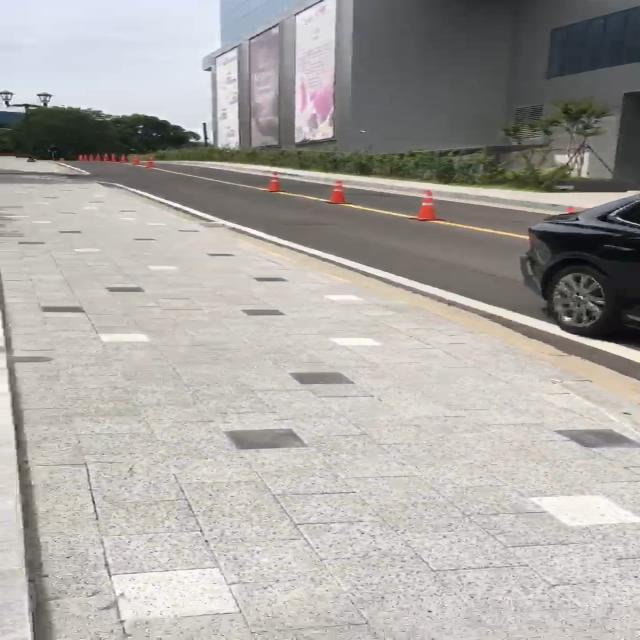obstacle: (499, 182, 640, 360), (71, 151, 164, 173), (400, 189, 449, 226), (323, 179, 351, 205), (261, 170, 284, 196)
road: (58, 159, 640, 404)
sidewalk: (0, 182, 640, 640), (188, 160, 628, 209), (0, 162, 73, 177)
